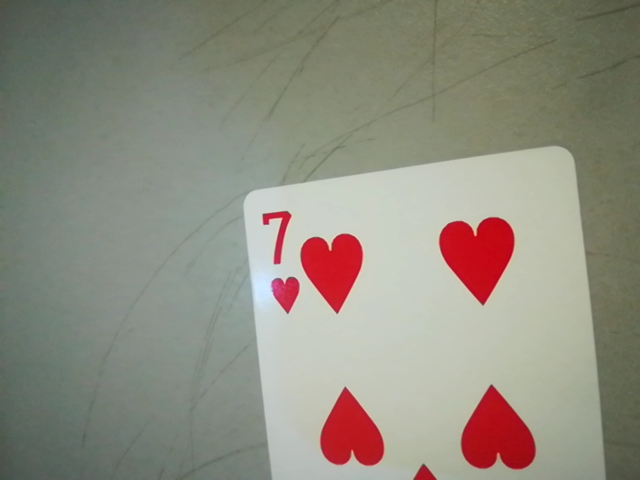hx 7: (251, 201, 303, 319)
